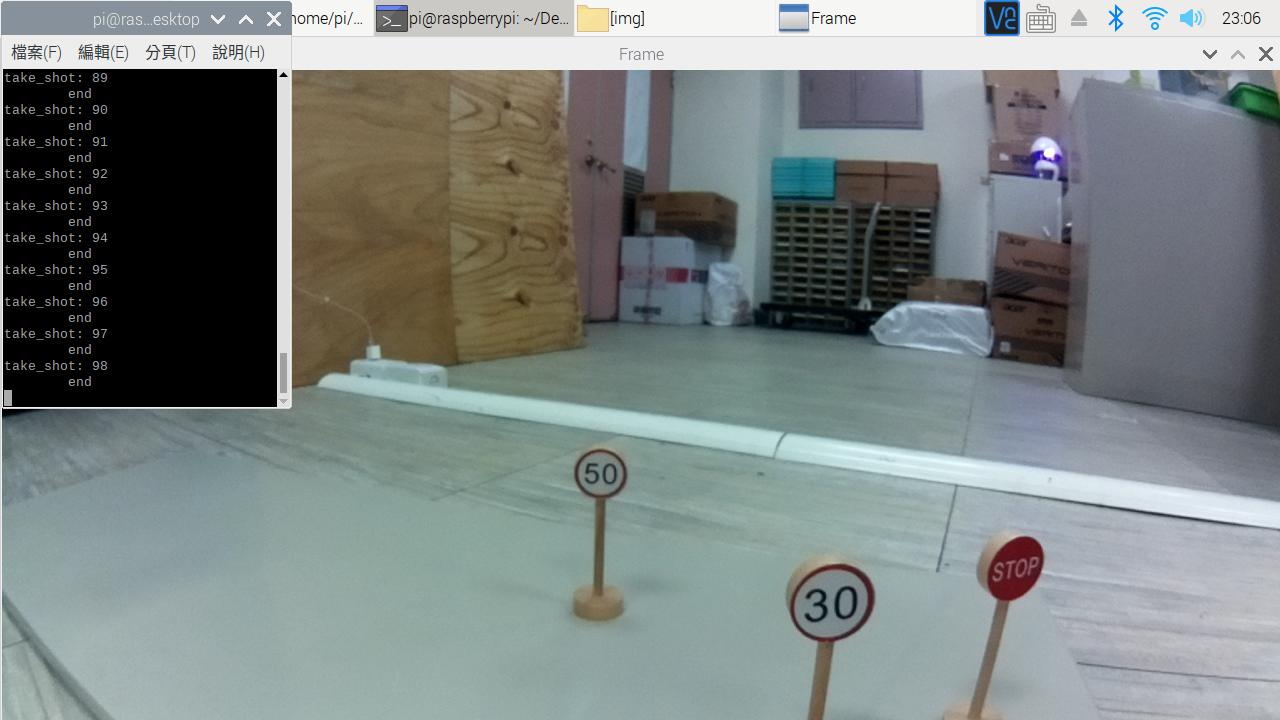Speed30: (781, 559, 883, 642)
Speed50: (576, 442, 635, 507)
Stop: (964, 525, 1064, 608)
